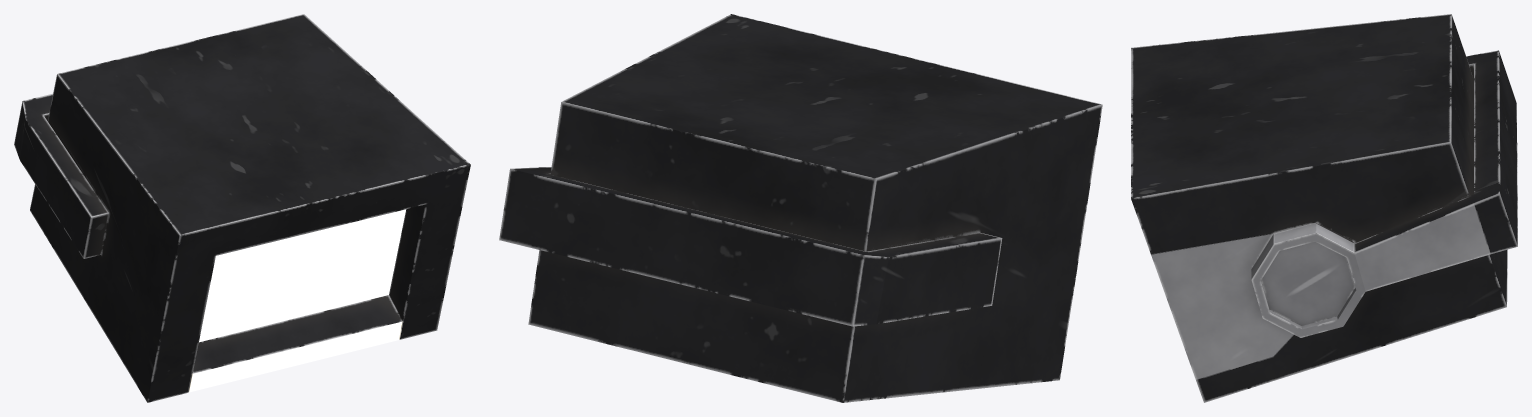
The model's file is Spotlight_Game.fbx.
The picture shows the model from 3 angles, left to right: view 1: azimuth 30°, elevation 25°; view 2: azimuth 150°, elevation 25°; view 3: azimuth 270°, elevation 25°; orthographic projection. The views are drawn at different scales.
Parts seen in each view (by area): view 1: Spotlight_Game; view 2: Spotlight_Game; view 3: Spotlight_Game.
Boxes of the visible parts, x1=… form: Spotlight_Game: x1=14, y1=14, x2=470, y2=402; Spotlight_Game: x1=499, y1=14, x2=1102, y2=402; Spotlight_Game: x1=1131, y1=14, x2=1517, y2=402.
Bounding box in the file's own units: 0.397 × 0.288 × 0.4.
1 material, 1 textured.
